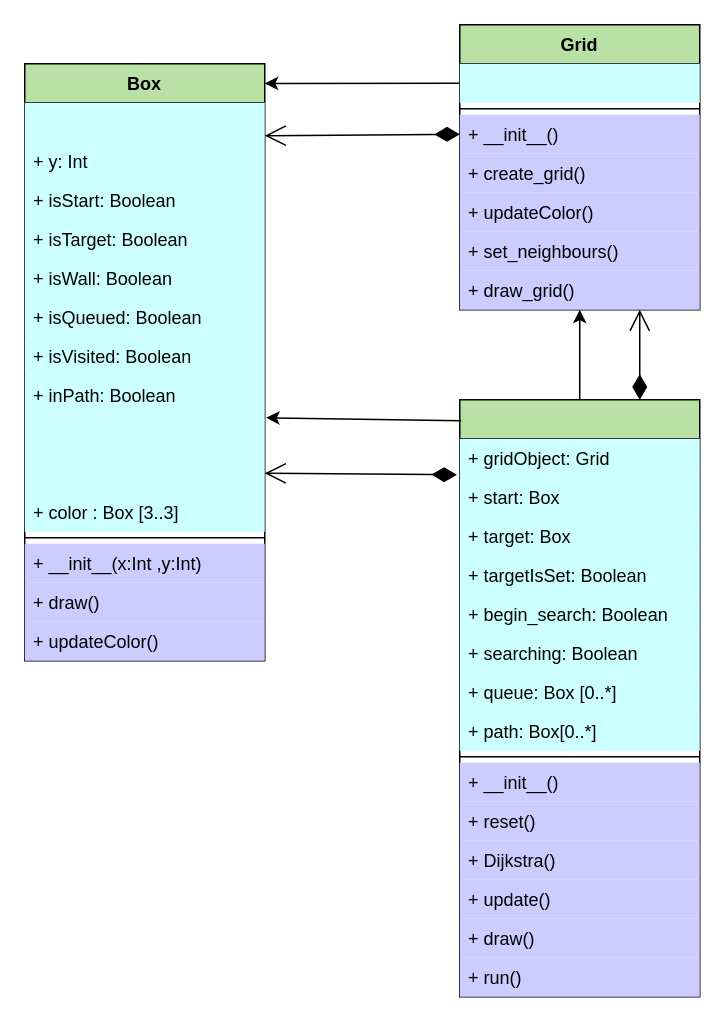
Some shapes in this 725 by 1022 pixel diagram are drawn without their labels. Each missing label, with the box of its shape:
+ grid: Box[0..*]: (459, 63, 699, 102)
+ neighbours: Box[0..*]: (24, 453, 264, 492)
+ prior: Box: (24, 414, 264, 453)
+ x: Int: (24, 102, 264, 141)
PathFinding: (458, 398, 700, 997)
